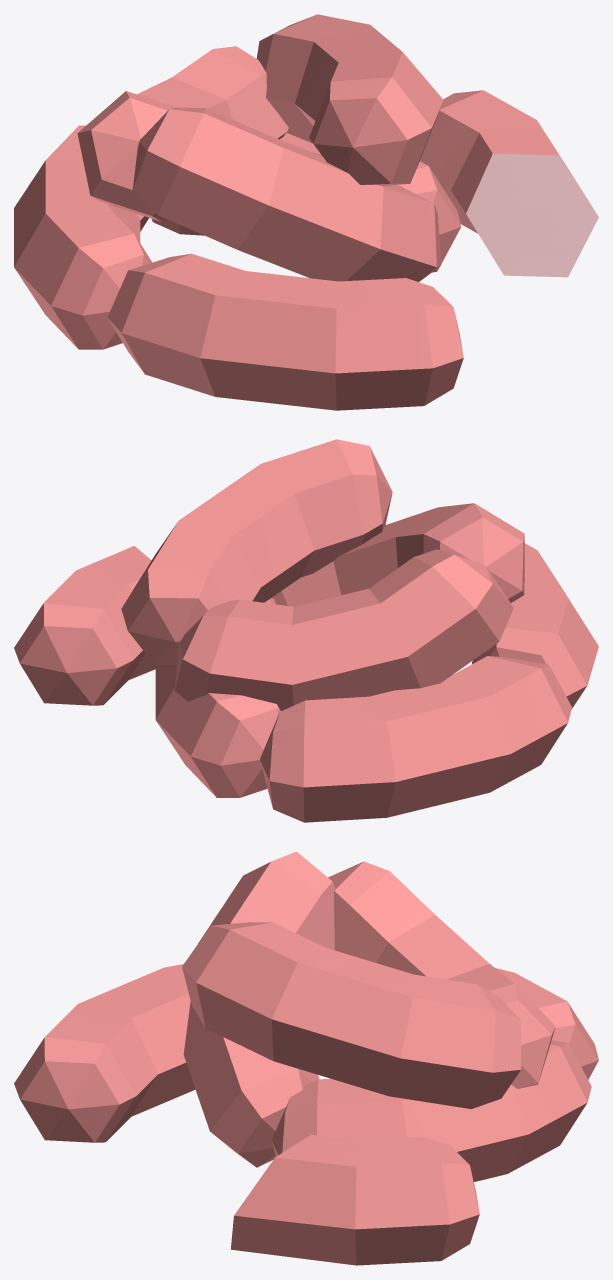
Rendered from sausages_001.glb.
3 renders of one model, top to bottom at view 1: azimuth 30°, elevation 25°; view 2: azimuth 150°, elevation 25°; view 3: azimuth 270°, elevation 25°, orthographic. The views are drawn at different scales.
Visible parts, largest first — view 1: sausages_001; view 2: sausages_001; view 3: sausages_001.
Boxes of the visible parts, x1,y1,x2,y2 form: sausages_001: (14,14,598,410); sausages_001: (14,439,598,822); sausages_001: (14,851,598,1265).
Bounding box in the file's own units: 0.2037 × 0.0894 × 0.2003.
1 material, 1 textured.
